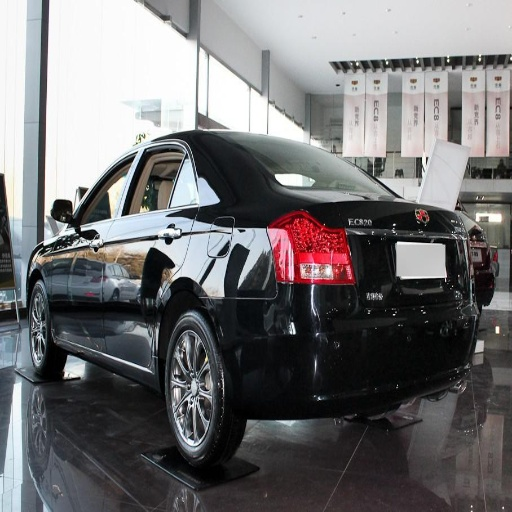back_bumper: (220, 285, 475, 416)
back_glass: (250, 148, 375, 194)
back_left_door: (107, 137, 198, 366)
